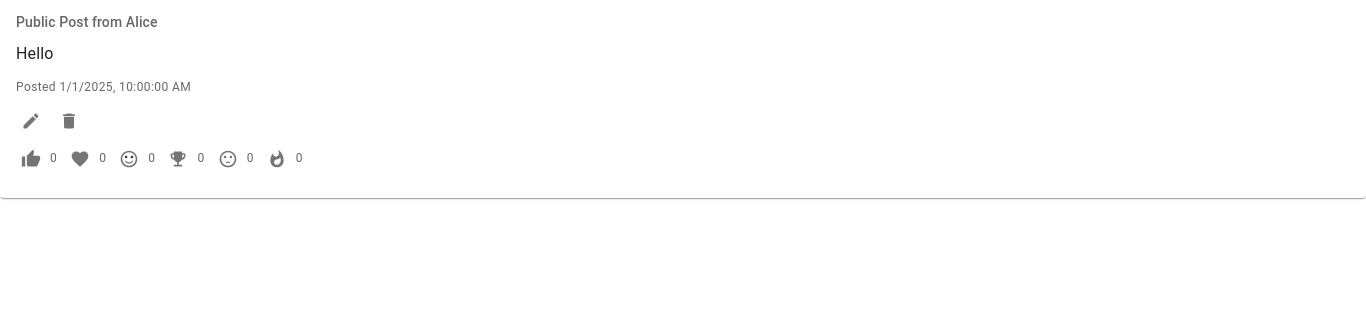
Test: PostCard › cancels edit and restores original text
This screenshot has width=1366, height=316.
Click the button named "edit post" at (31,121), box [16,106,46,136]
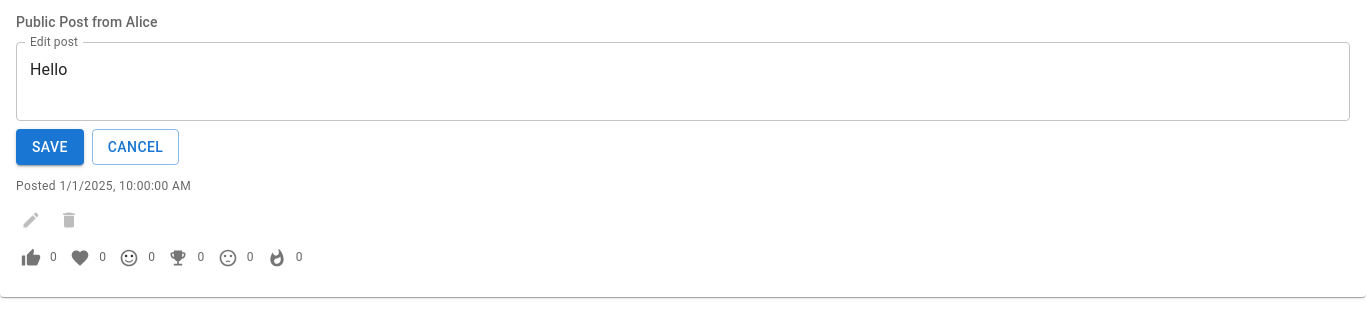
Type " (draft)" into the text box labelled "Edit post" at (683,82), box [30,58,1336,104]
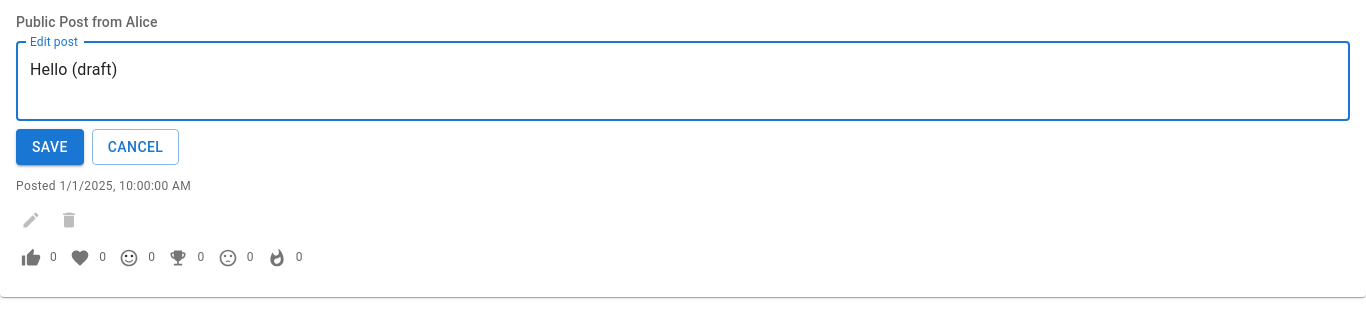
Click the button "Cancel" at (136,147), box [92,129,179,166]
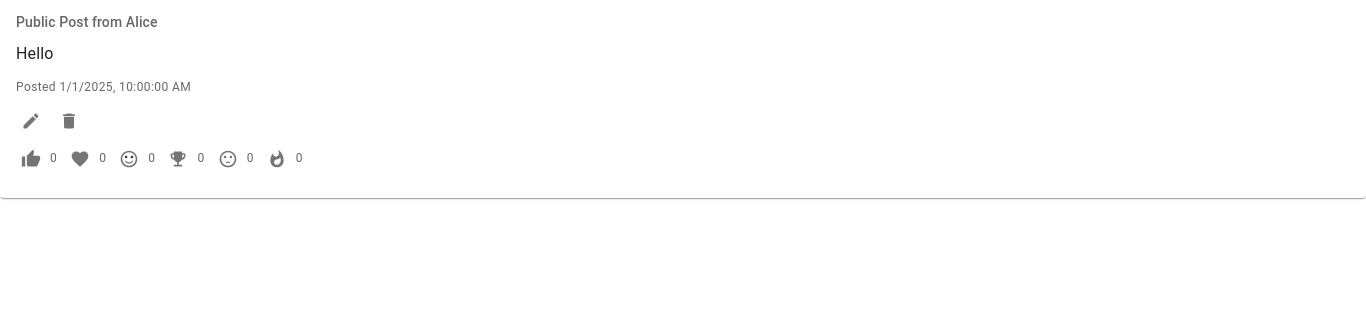
Expected: the label labelled "Edit post" is gone
Expected: the text "Hello" is shown, [16,44,54,63]
